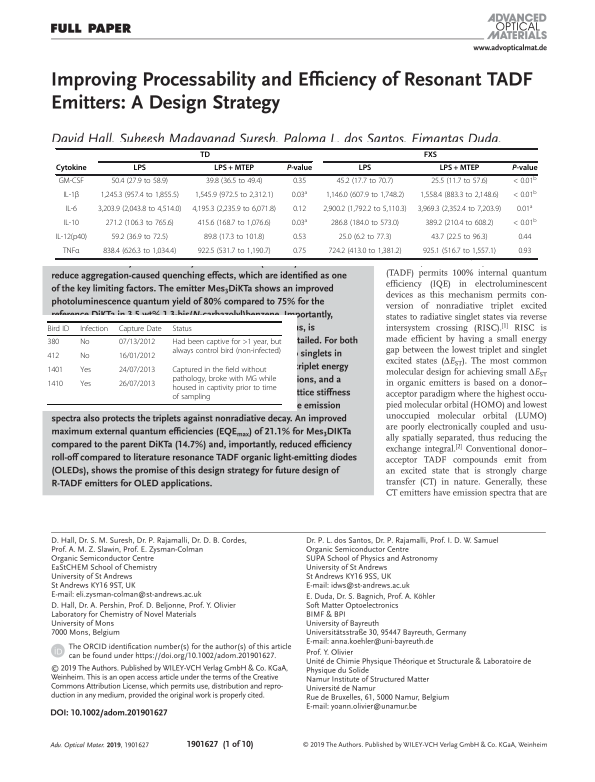borderless: (54, 147, 537, 258), (47, 320, 282, 404)
cell: (171, 365, 277, 402), (171, 337, 282, 356), (191, 205, 277, 215), (322, 205, 408, 215), (97, 205, 182, 215), (417, 205, 502, 215), (100, 191, 180, 201), (194, 191, 274, 201), (325, 191, 405, 201), (419, 191, 499, 201), (197, 219, 272, 229), (102, 247, 177, 257), (197, 247, 272, 257), (327, 247, 402, 257), (422, 247, 497, 257), (105, 219, 175, 229), (330, 219, 400, 229), (424, 219, 494, 229), (203, 233, 265, 243), (110, 177, 169, 187), (430, 177, 489, 187), (110, 233, 169, 243), (430, 233, 489, 243), (205, 177, 263, 187), (336, 177, 394, 187), (338, 233, 392, 243), (213, 164, 255, 174), (439, 164, 480, 174), (118, 324, 162, 333), (118, 337, 156, 347), (118, 351, 156, 361), (118, 365, 156, 375), (118, 379, 156, 389), (55, 233, 88, 243), (55, 164, 87, 174), (512, 176, 537, 187), (512, 190, 537, 201), (512, 218, 537, 229), (79, 324, 109, 333), (286, 164, 313, 174), (511, 164, 538, 174), (58, 177, 85, 187), (47, 324, 70, 333), (171, 324, 193, 333), (291, 190, 308, 201), (516, 204, 533, 215), (291, 218, 308, 229), (62, 191, 80, 201), (62, 247, 80, 257), (47, 365, 64, 375), (47, 379, 64, 389), (63, 219, 80, 229), (132, 164, 147, 174), (292, 177, 307, 187), (292, 205, 307, 215), (292, 233, 307, 243), (517, 233, 532, 243), (292, 247, 307, 257), (517, 247, 532, 257), (358, 164, 372, 174), (64, 205, 78, 215), (423, 151, 438, 160), (47, 337, 60, 347), (47, 351, 60, 361), (79, 365, 92, 375), (79, 379, 92, 389), (79, 337, 90, 347), (79, 351, 90, 361), (199, 151, 211, 160)
